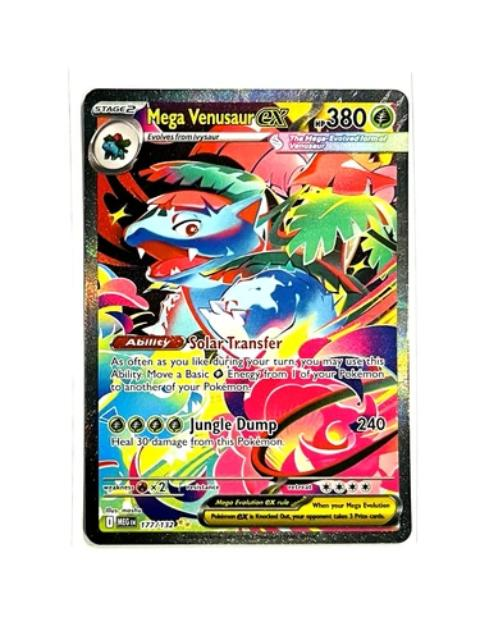Card: (78, 82, 415, 550)
Name: (143, 101, 293, 129)
